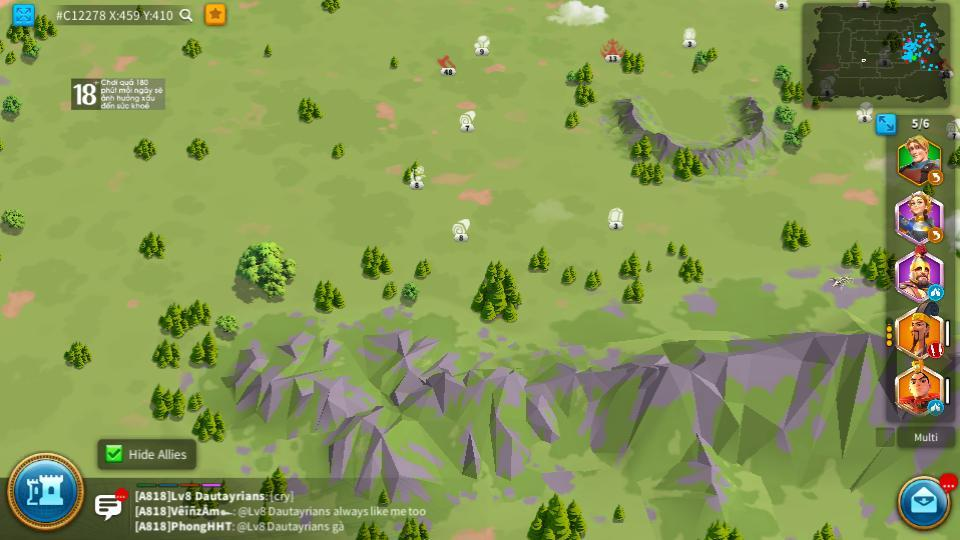gem-z-out: (607, 207, 625, 227)
march_attacking: (929, 349, 942, 359)
march_idle: (927, 401, 944, 415), (929, 286, 942, 297)
march_returning: (927, 229, 944, 242), (928, 172, 942, 183)
